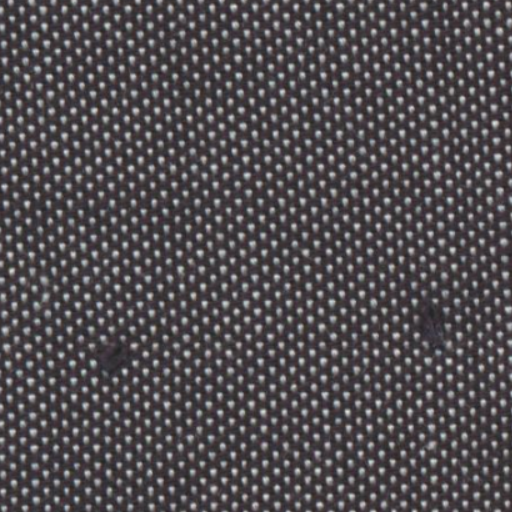MianQiu: (398, 282, 464, 356), (82, 314, 140, 386)
